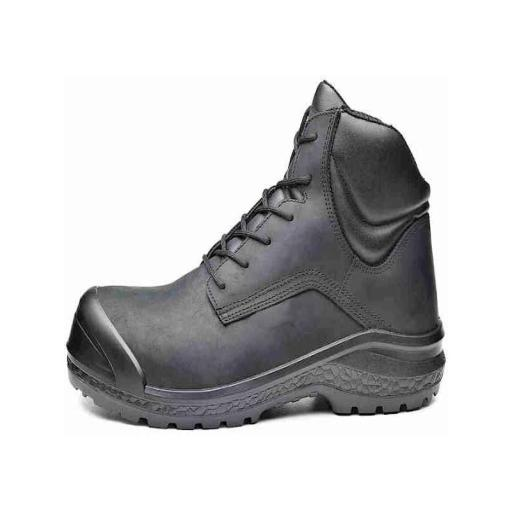safety_boots: (59, 188, 448, 430)
